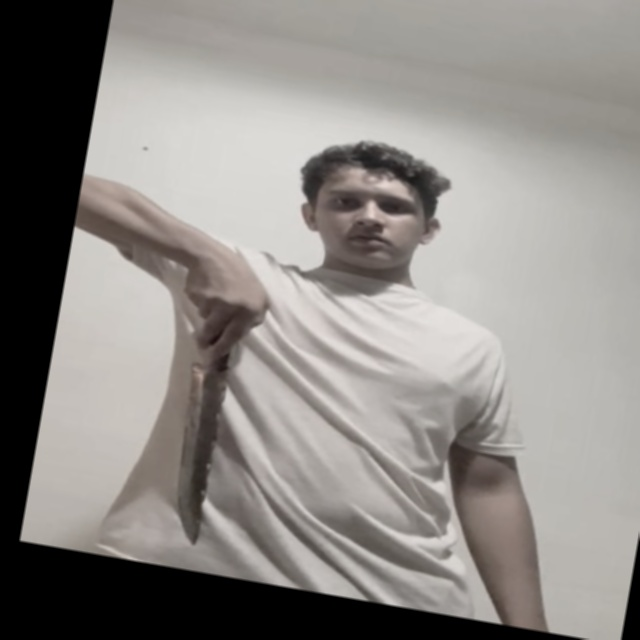Sharp-Object: (163, 361, 233, 549)
